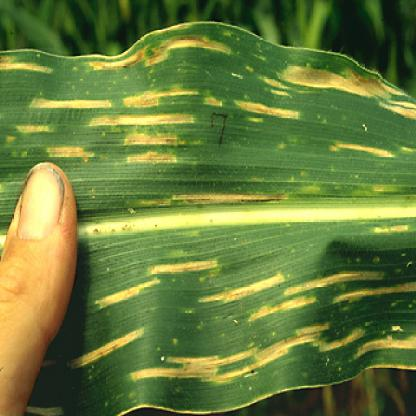corn gray leaf spot: (83, 29, 415, 412)
